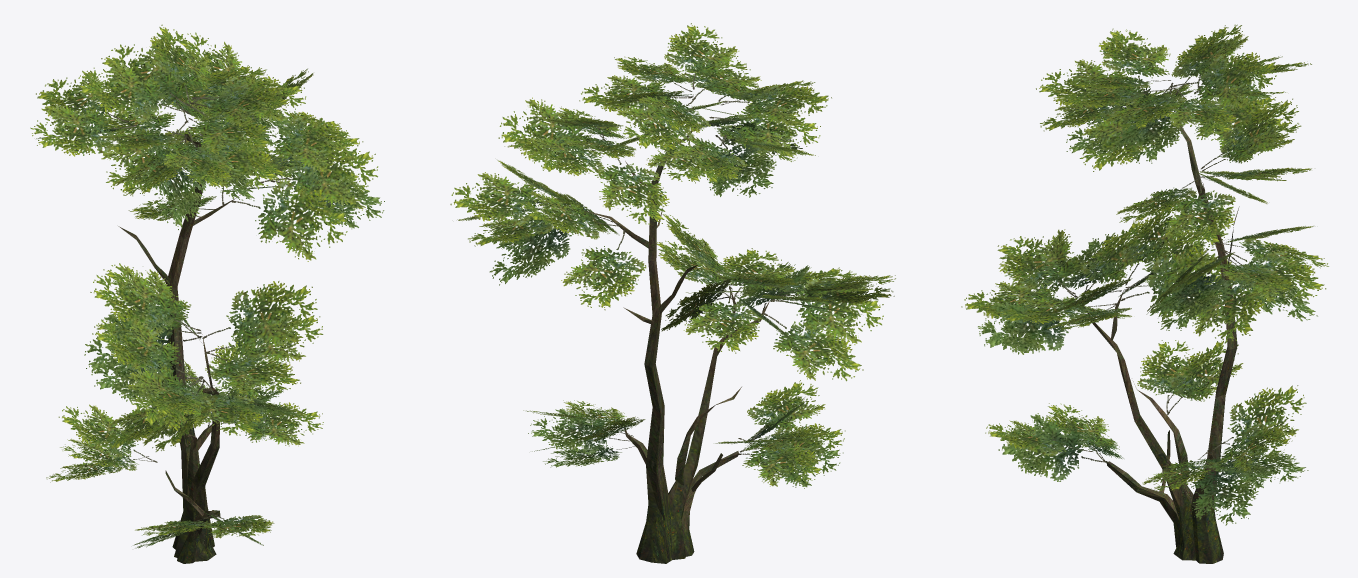
File: d_sd_shu01c_zw.FBX
3 views of the same model, side by side, from view 1: azimuth 30°, elevation 25°; view 2: azimuth 150°, elevation 25°; view 3: azimuth 270°, elevation 25° (orthographic). The views are drawn at different scales.
Parts seen in each view (by area): view 1: d_sd_shu01c_zw_B, d_sd_shu01c_zw_A; view 2: d_sd_shu01c_zw_B, d_sd_shu01c_zw_A; view 3: d_sd_shu01c_zw_B, d_sd_shu01c_zw_A.
Part boxes in pixels (<box>): d_sd_shu01c_zw_B: <box>30,24,384,548</box>; d_sd_shu01c_zw_A: <box>118,133,240,563</box>; d_sd_shu01c_zw_B: <box>450,23,895,488</box>; d_sd_shu01c_zw_A: <box>585,130,769,563</box>; d_sd_shu01c_zw_B: <box>961,24,1328,525</box>; d_sd_shu01c_zw_A: <box>1084,122,1248,563</box>.
Size of the model in its own units: 347 by 444 by 319.
